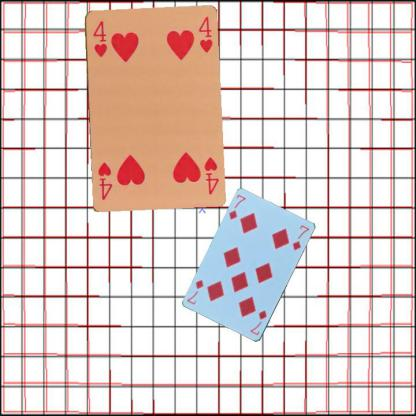4h: (201, 154, 220, 195), (90, 18, 108, 58)
7d: (247, 308, 268, 337), (226, 192, 247, 221)
